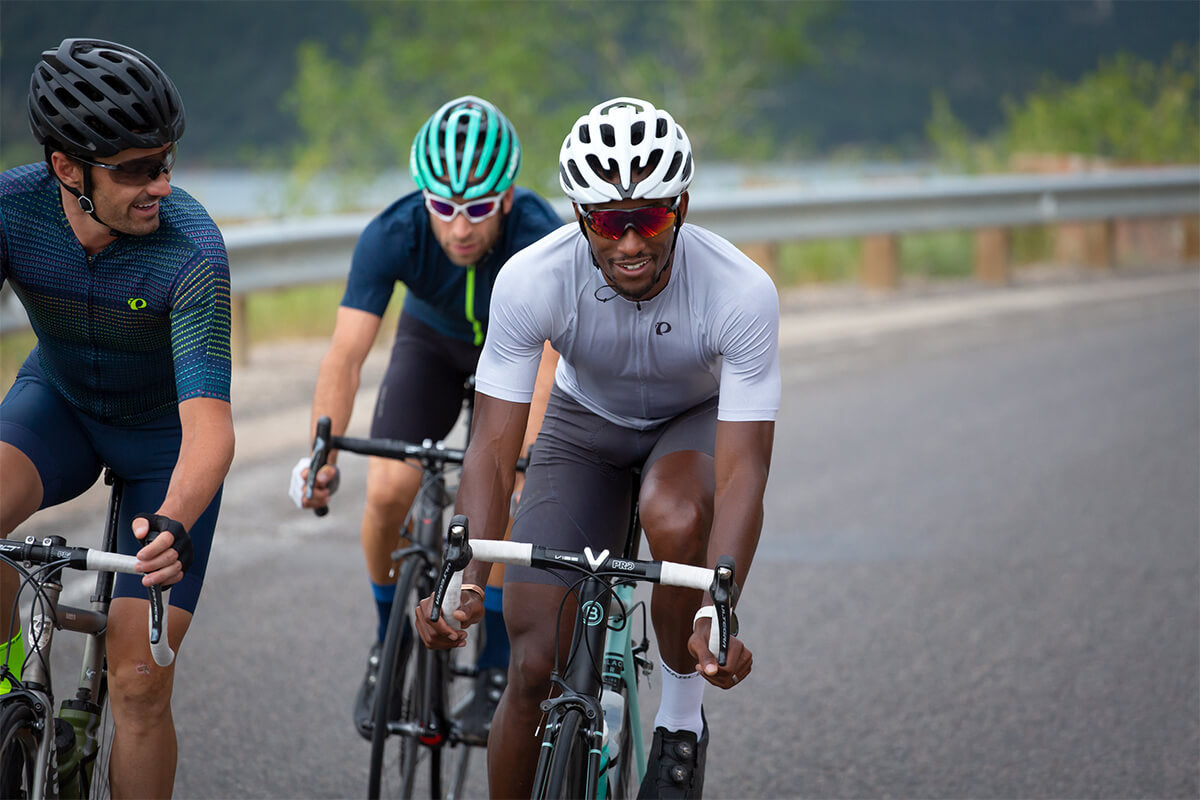helmet: (26, 37, 185, 234), (558, 97, 696, 298), (409, 95, 522, 267)
